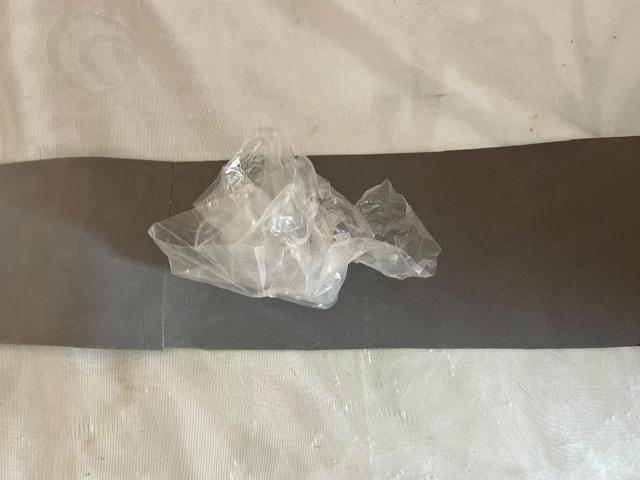LDPE: (129, 118, 462, 326)
